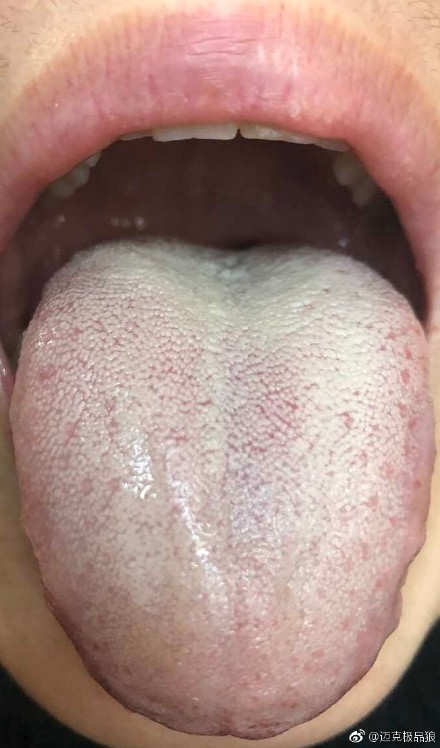baitaishe: (9, 238, 437, 740)
